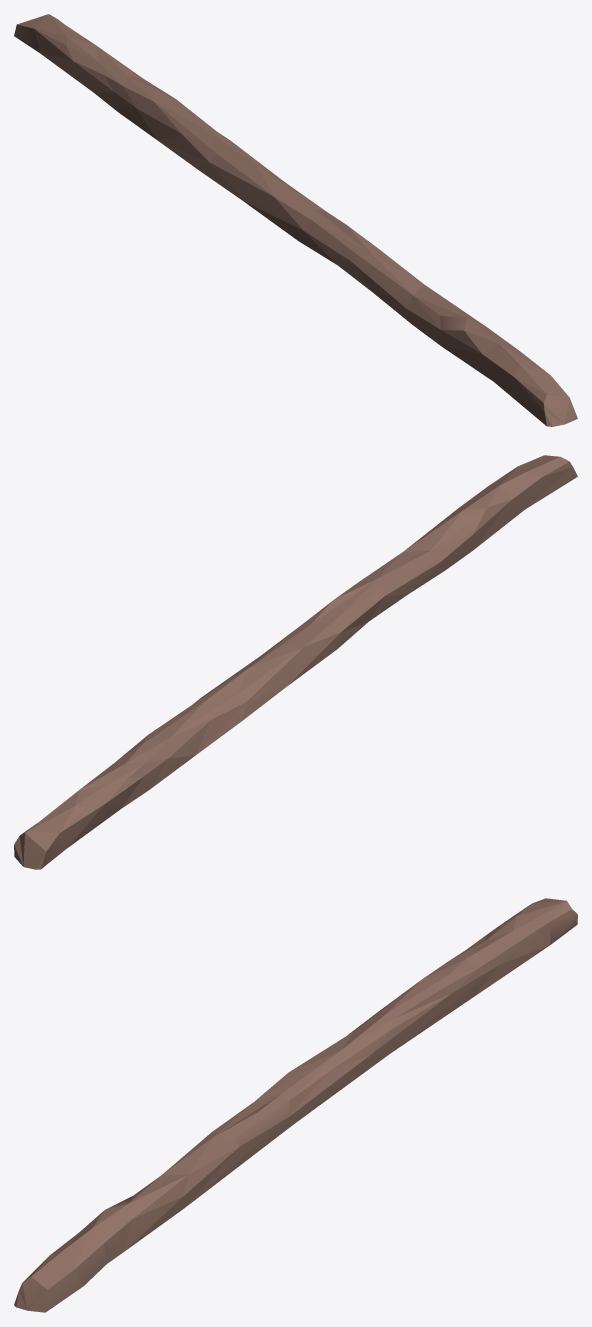
File: garden_bed_001.glb
The picture shows the model from 3 angles, top to bottom: view 1: azimuth 30°, elevation 25°; view 2: azimuth 150°, elevation 25°; view 3: azimuth 330°, elevation 25°; orthographic projection.
Parts seen in each view (by area): view 1: garden_bed_001; view 2: garden_bed_001; view 3: garden_bed_001.
Boxes of the visible parts, x1=… form: garden_bed_001: x1=14, y1=14, x2=577, y2=426; garden_bed_001: x1=14, y1=455, x2=577, y2=869; garden_bed_001: x1=14, y1=898, x2=577, y2=1312.
Size of the model in its own units: 1.65 by 1.23 by 34.33.
1 material, 1 textured.
